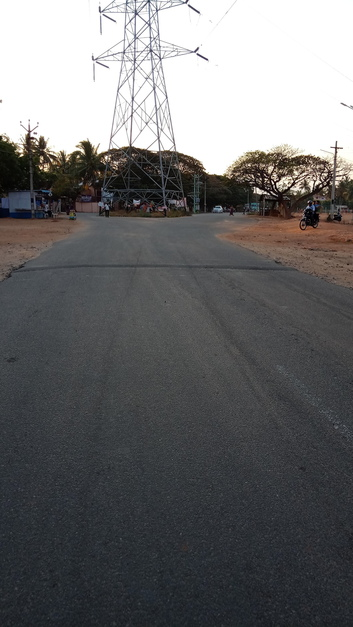bump: (10, 261, 301, 276)
